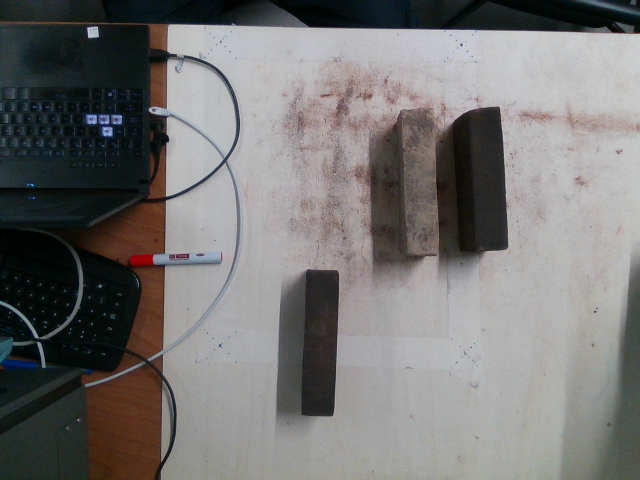brick-side: (399, 110, 440, 252), (304, 274, 339, 415), (473, 108, 506, 250)
